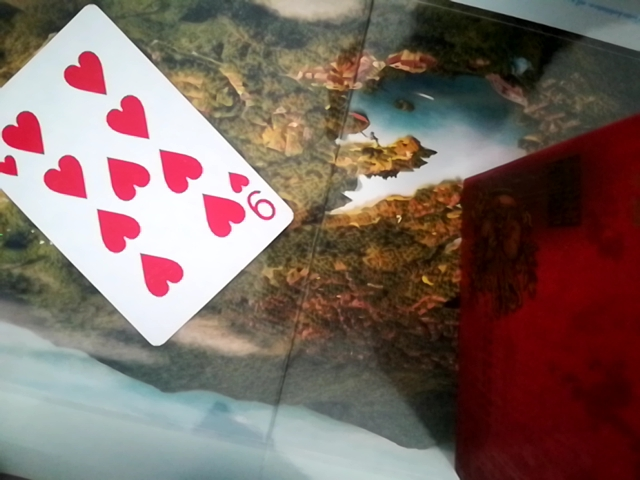hx 9: (0, 5, 292, 350)
